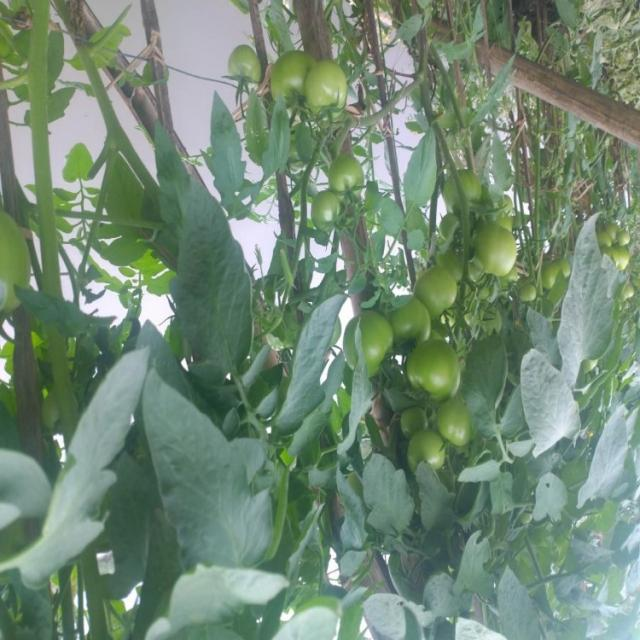tomato: (402, 346, 477, 431), (305, 53, 359, 125), (271, 53, 322, 125), (341, 307, 394, 372), (472, 213, 524, 279), (404, 258, 454, 325), (305, 190, 355, 249), (1, 229, 29, 328), (387, 298, 440, 350), (407, 430, 457, 485), (434, 405, 490, 452), (223, 53, 271, 93), (445, 164, 482, 212), (336, 162, 368, 196), (537, 261, 566, 292), (614, 234, 640, 266), (556, 247, 579, 277), (522, 278, 546, 306)
